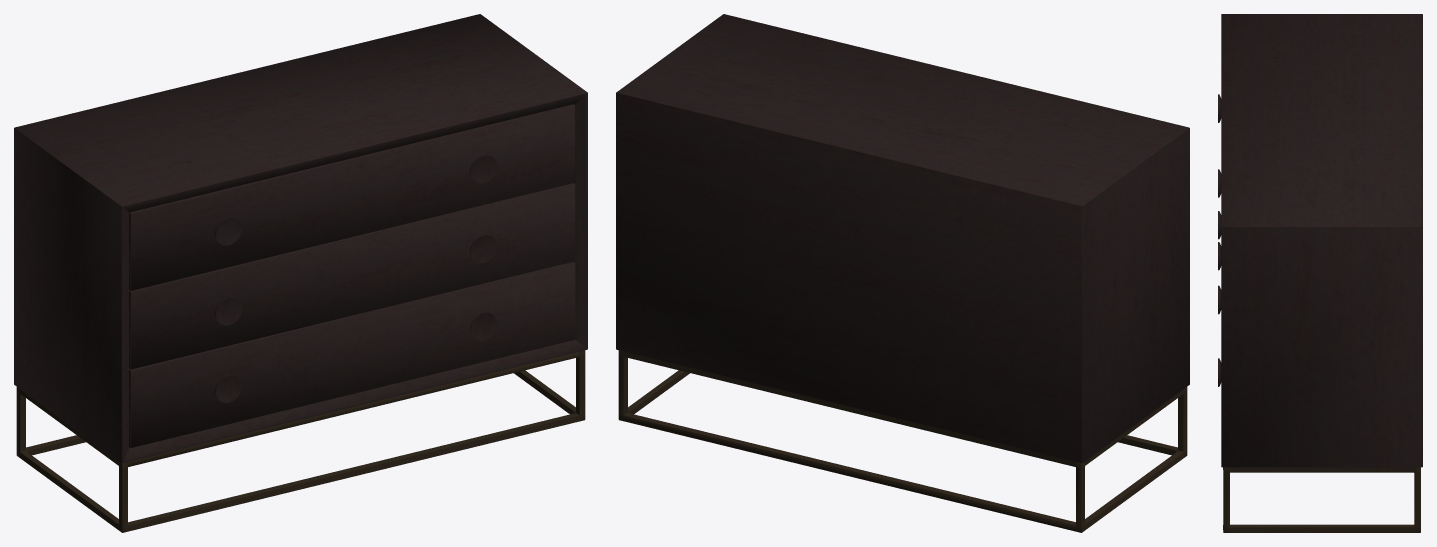
3 views of the same model, side by side, from view 1: azimuth 30°, elevation 25°; view 2: azimuth 150°, elevation 25°; view 3: azimuth 270°, elevation 25° (orthographic). The views are drawn at different scales.
Parts seen in each view (by area): view 1: Base, Legs, Handles; view 2: Base, Legs; view 3: Base, Legs, Handles.
Boxes of the visible parts, x1,y1,x2,y2 form: Base: (14,14,587,463); Legs: (16,350,585,532); Handles: (215,154,497,403); Base: (616,14,1189,463); Legs: (618,350,1187,532); Base: (1221,14,1422,467); Legs: (1223,467,1420,532); Handles: (1218,94,1221,386).
Size of the model in its own units: 1.27 by 0.8532 by 0.5155.
2 materials, 1 textured.
